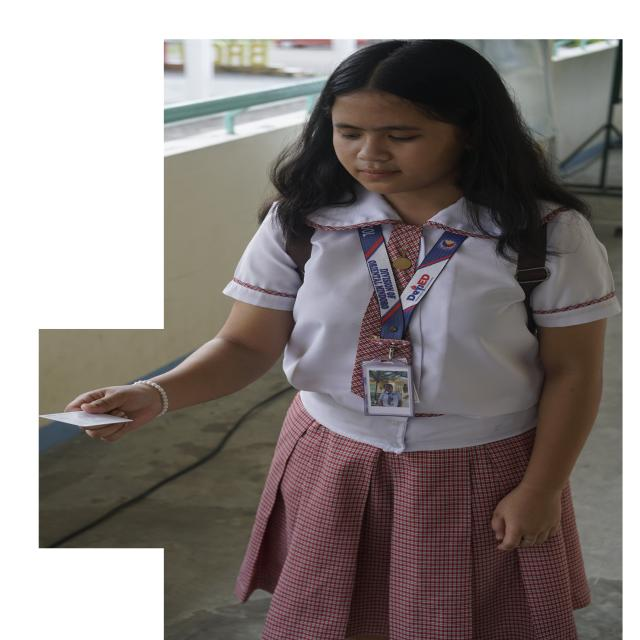id lace: (358, 225, 457, 343)
pologirl: (224, 190, 543, 452), (532, 209, 619, 327)
